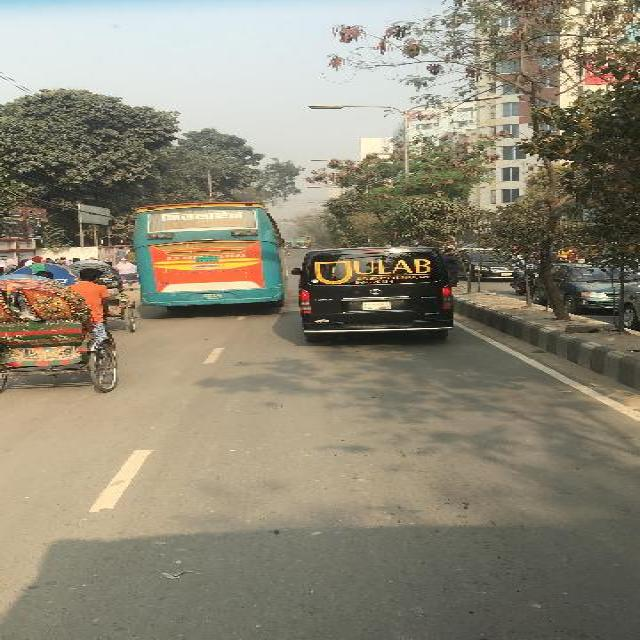bus: (133, 202, 287, 310), (457, 246, 539, 280), (290, 236, 306, 246)
car: (532, 262, 638, 314), (296, 242, 308, 248)
rickshaw: (2, 274, 119, 394), (67, 259, 136, 331), (11, 263, 81, 285)
van: (290, 243, 460, 341)
